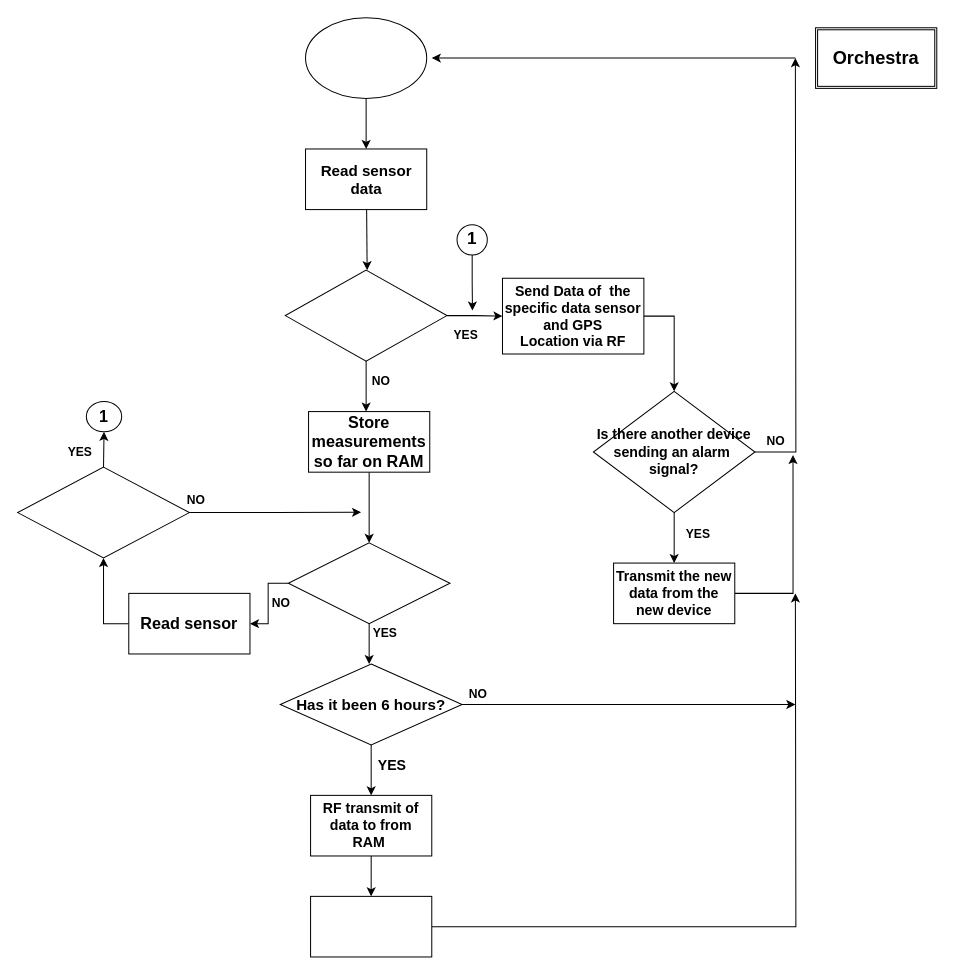
The diagram is 954 pixels wide and 975 high, and some of its shapes have lost their labels. The shapes that lost their labels are listed below. From the top down, each one's box as (x1, y1, x2, y2) in pixels, then its label:
(305, 17, 427, 98): START
(284, 269, 447, 361): Is there an Alarm signal?
(17, 466, 189, 558): Is there an alarm?
(287, 542, 450, 624): Has it been 5 minutes?
(310, 895, 432, 957): Clear RAM
